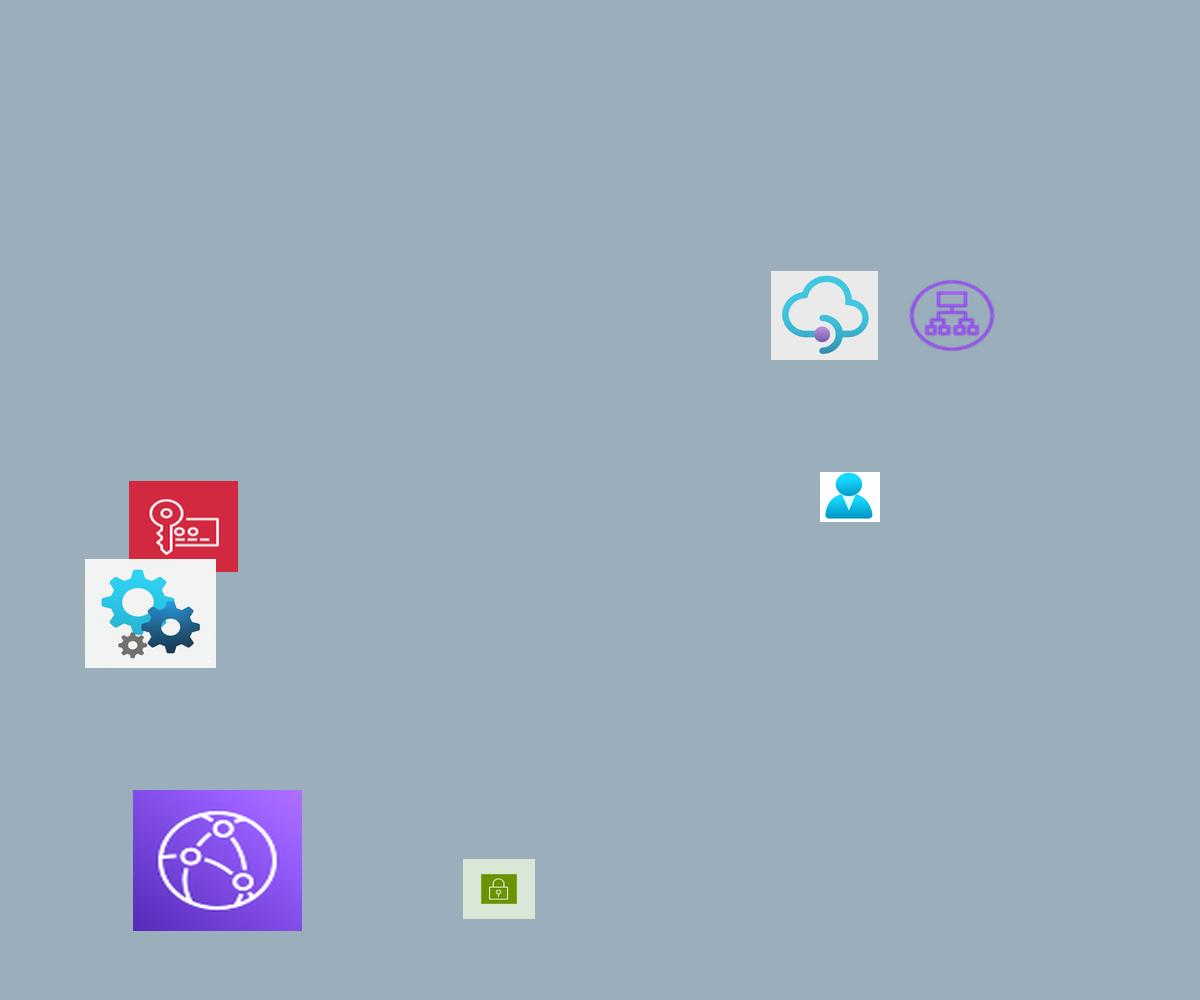AWS-CloudFront: (133, 790, 302, 931)
AWS-Key-Management-Service: (129, 481, 238, 572)
AWS-Public-subnet: (463, 859, 535, 919)
AWS-Res_Elastic-Load-Balancing_Application-Load-Balancer: (906, 277, 998, 354)
Azure_api: (85, 559, 216, 668)
Azure_api_gateway: (771, 271, 878, 360)
Azure_users: (820, 472, 880, 522)
